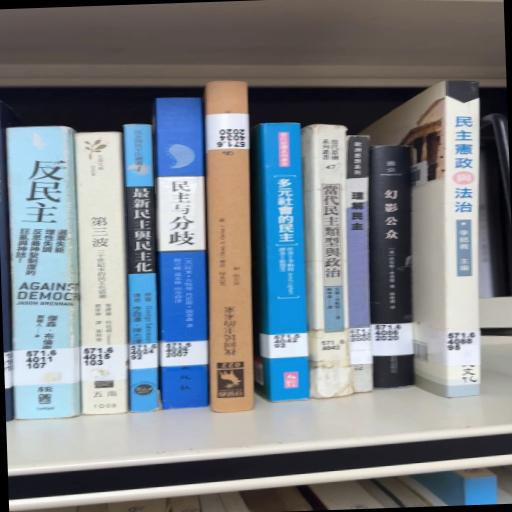reverse: (204, 82, 254, 413)
